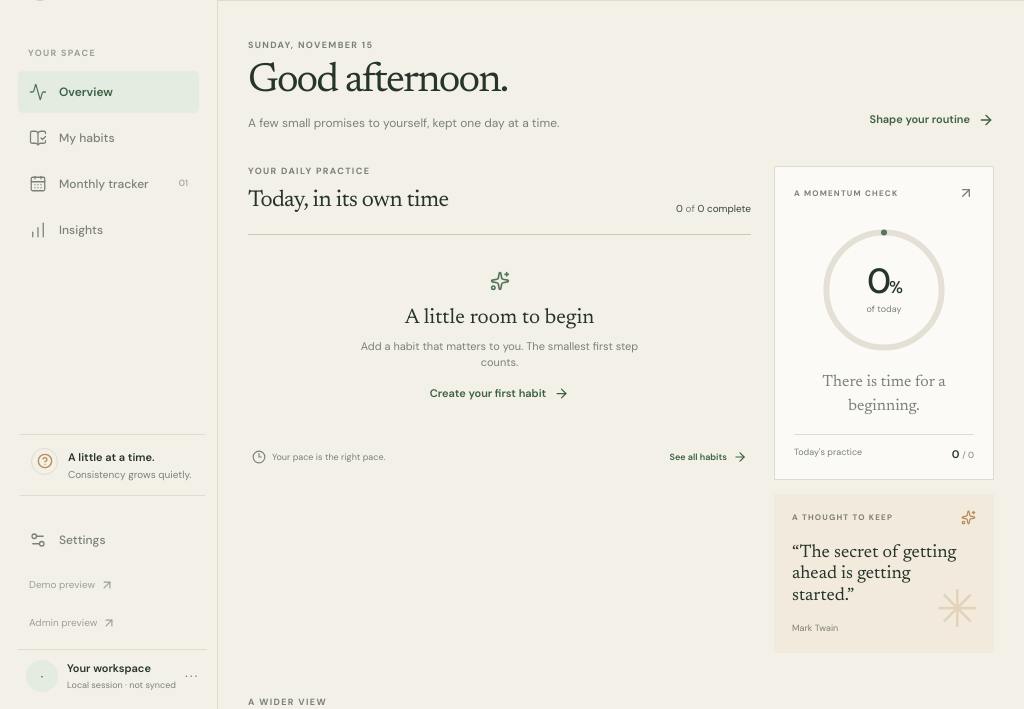
Test: Habitly frontend › renders a clearly identified admin preview and its user table
This screenshot has width=1024, height=709.
What coordinates should you click on to do the following:
click the link "Admin preview"
I would click on:
 (73, 622)
Its box is x1=29 y1=616 x2=116 y2=630.
(page scrolled)
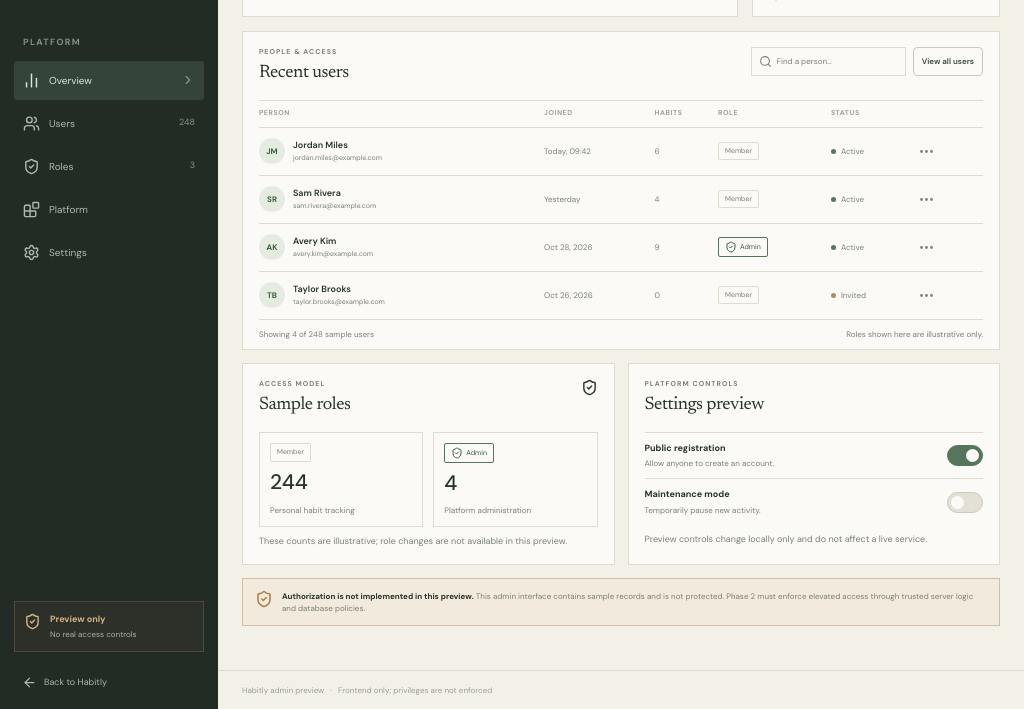
Now the table named "recent users" is shown, box x1=259 y1=100 x2=983 y2=320
Now the text "Authorization is not implemented in this preview." is shown, box x1=282 y1=591 x2=474 y2=601
